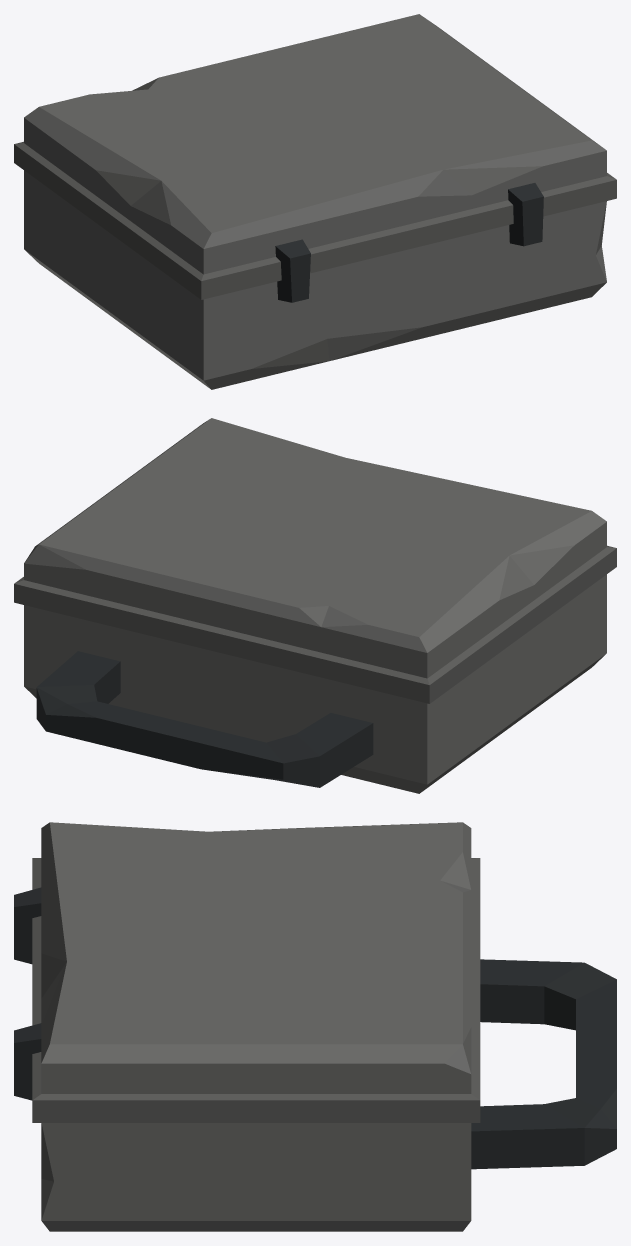
The model's file is SM_Prop_MedicalBox_01.glb.
The picture shows the model from 3 angles, top to bottom: view 1: azimuth 30°, elevation 25°; view 2: azimuth 150°, elevation 25°; view 3: azimuth 270°, elevation 25°; orthographic projection. The views are drawn at different scales.
Visible parts, largest first — view 1: SM_Prop_MedicalBox_01; view 2: SM_Prop_MedicalBox_01; view 3: SM_Prop_MedicalBox_01.
Boxes of the visible parts, x1=… form: SM_Prop_MedicalBox_01: x1=14, y1=14, x2=616, y2=389; SM_Prop_MedicalBox_01: x1=14, y1=418, x2=616, y2=793; SM_Prop_MedicalBox_01: x1=14, y1=822, x2=616, y2=1231.
Bounding box in the file's own units: 0.4894 × 0.1763 × 0.5141.
1 material, 1 textured.
